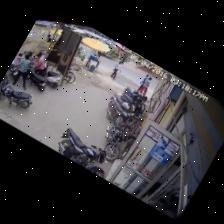person: (13, 55, 31, 90), (34, 52, 44, 74), (140, 77, 152, 94), (111, 62, 121, 79), (137, 75, 148, 90), (12, 54, 22, 66)
